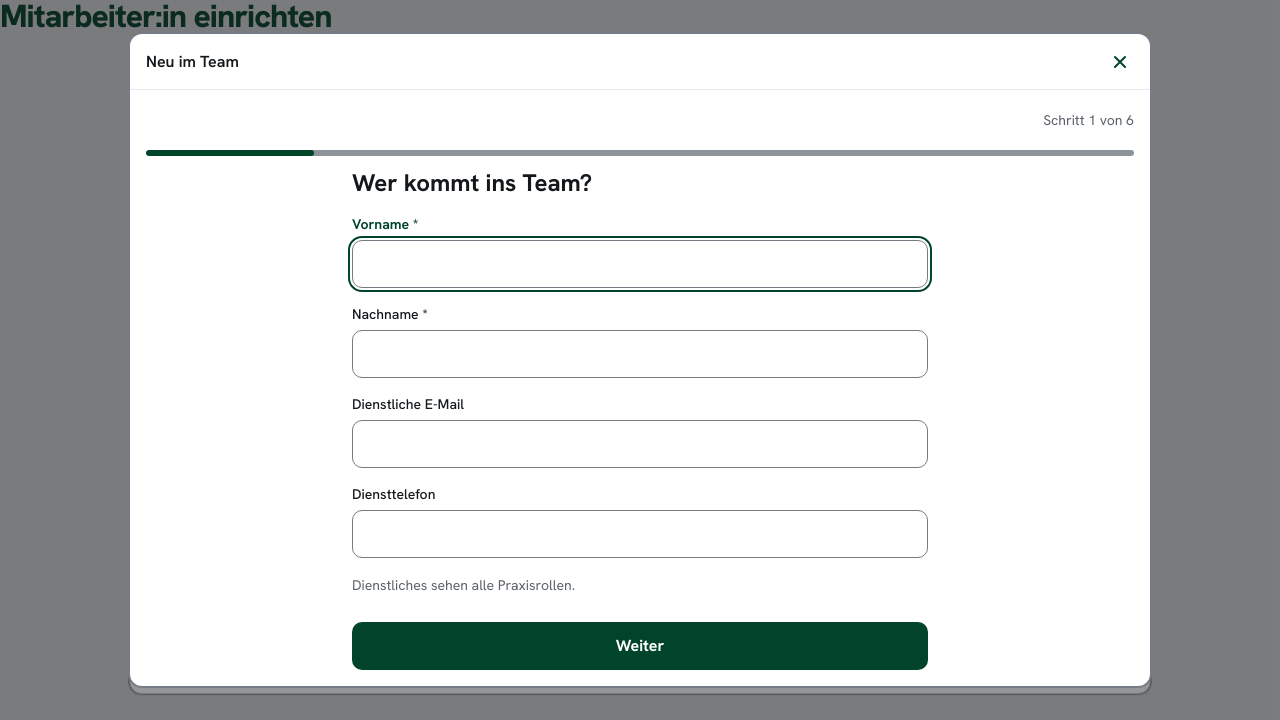
Test case: NewStaffMemberPage: Neue:n Mitarbeiter:in einrichten (G5) › weist eine unbrauchbare E-Mail-Adresse ab
This screenshot has width=1280, height=720.
Type "Nina" into the 2nd field labelled "Vorname *" at [640, 264], box [352,240,928,288]
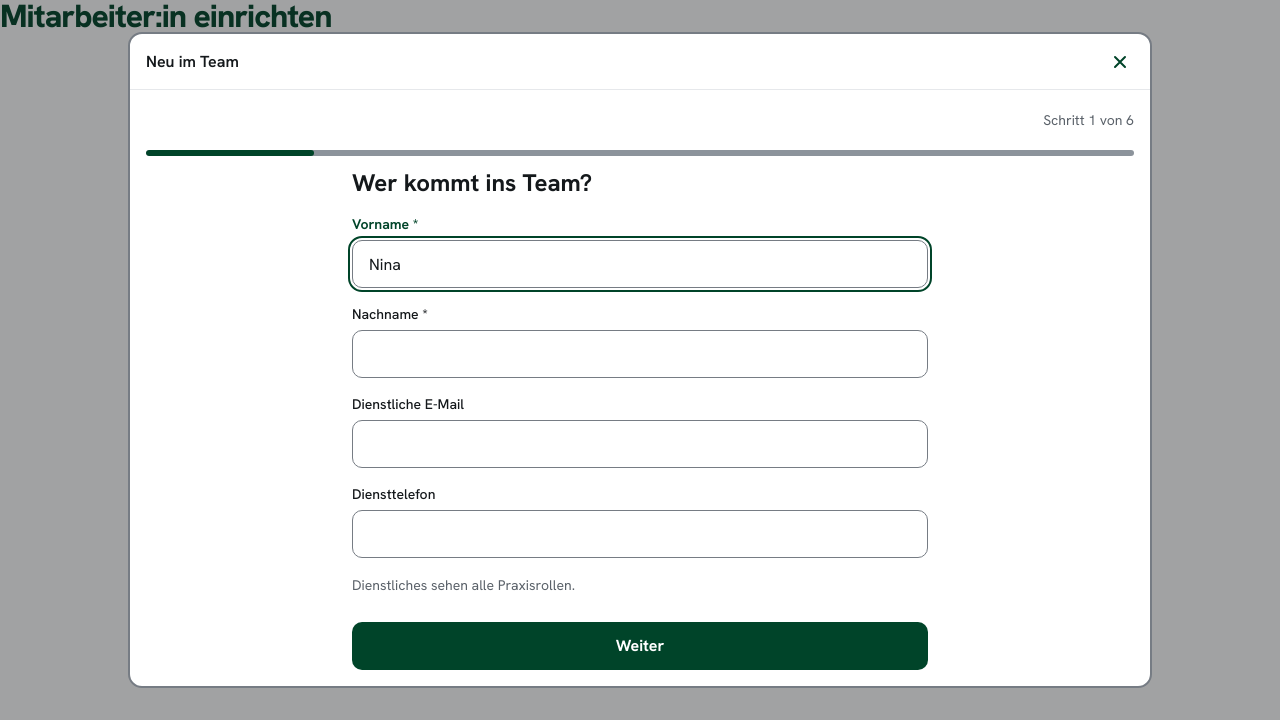
Type "Neu" into the field labelled "Nachname *" at [640, 354], box [352,330,928,378]
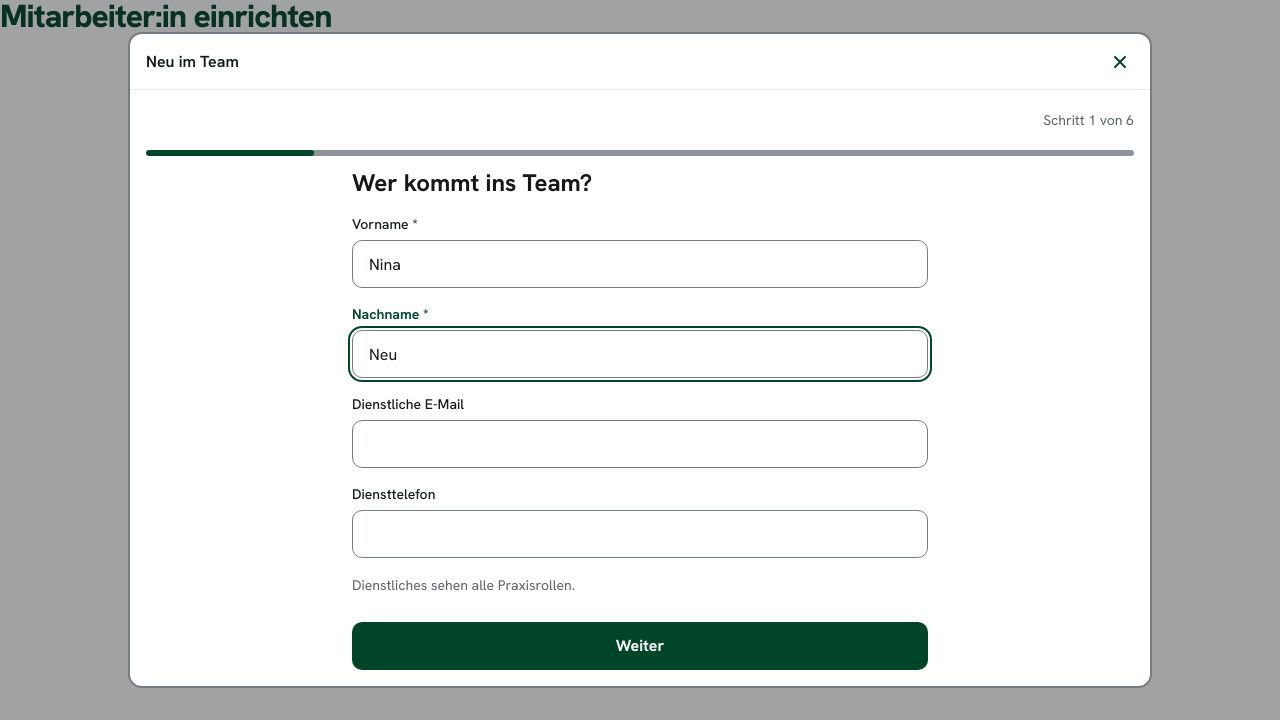
Type "keine-adresse" into the field labelled "Dienstliche E-Mail" at [640, 444], box [352,420,928,468]
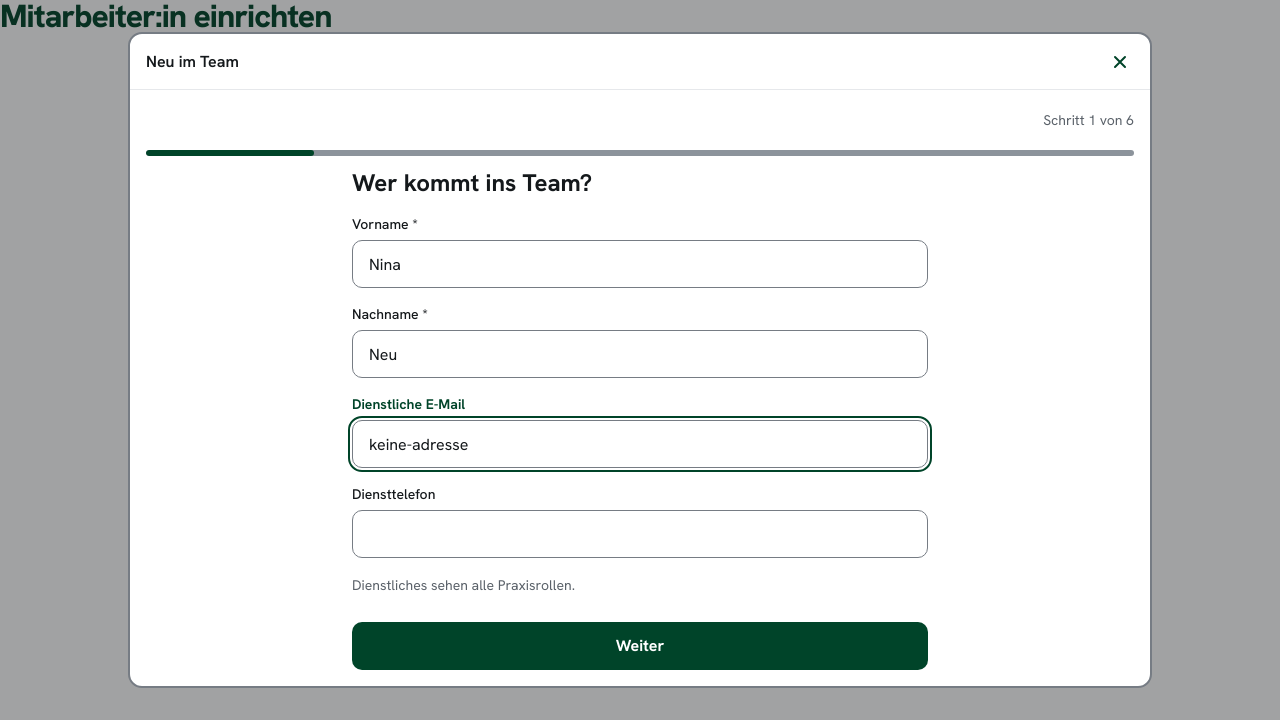
Click the button "Weiter" at [640, 646], box [352,622,928,670]
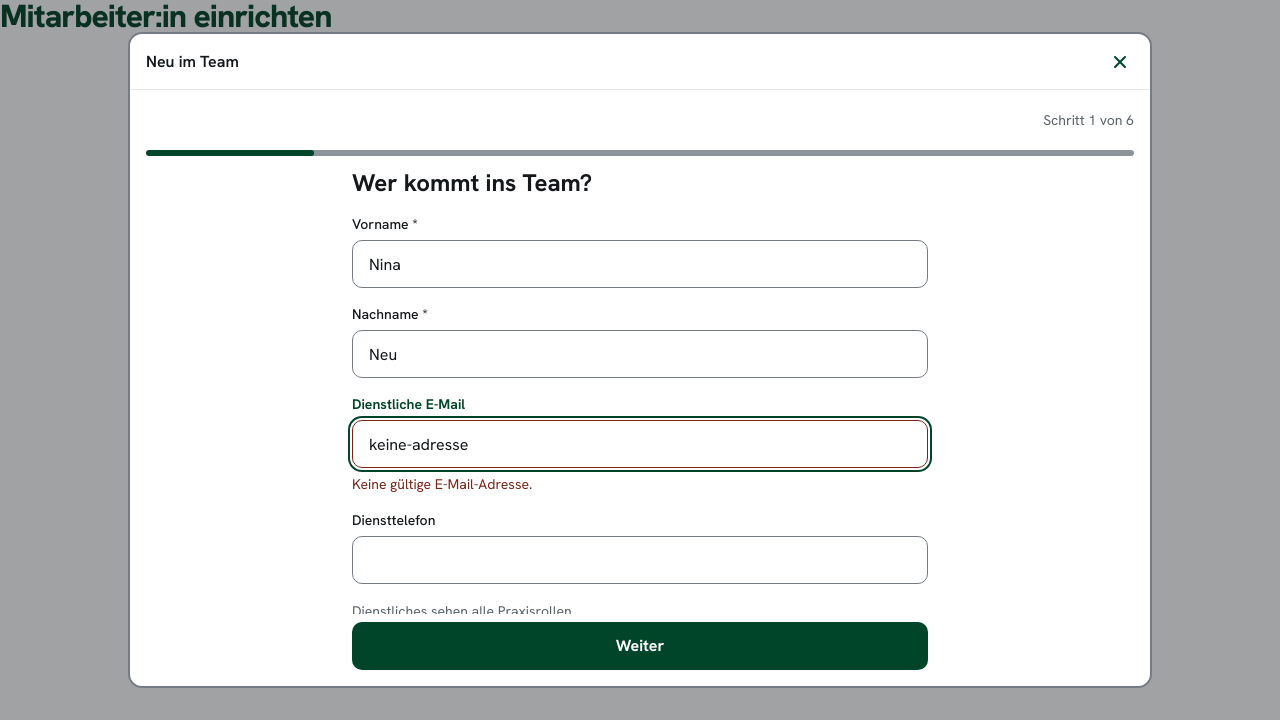
Check: the text "Keine gültige E-Mail-Adresse." is shown, box [352,475,532,493]
